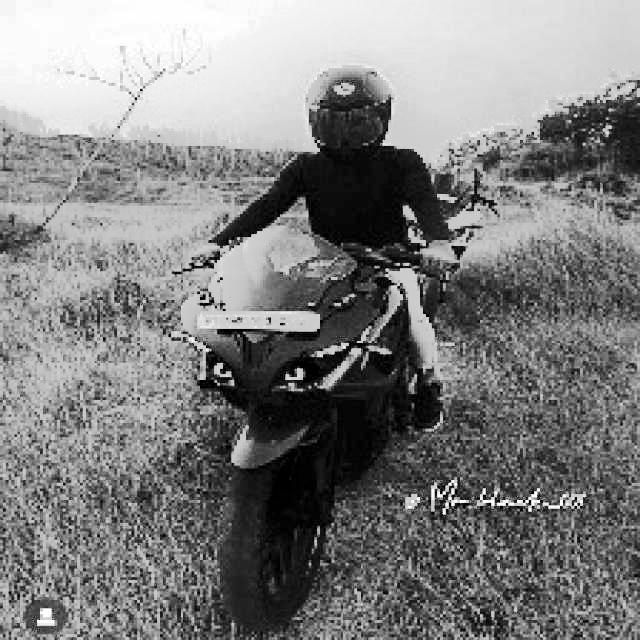Bike: (168, 219, 429, 610)
